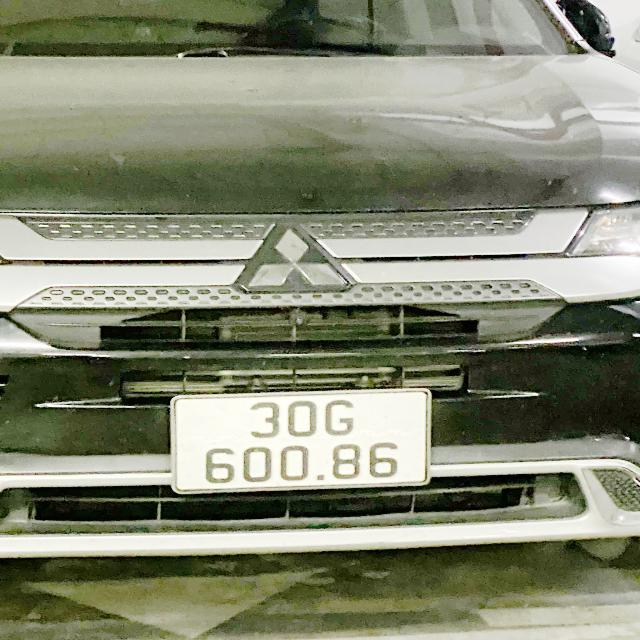license_plate: (170, 386, 433, 488)
